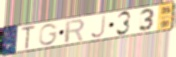3: (114, 10, 136, 36), (138, 7, 156, 32)
G: (39, 23, 60, 47)
J: (89, 14, 107, 39)
R: (64, 19, 86, 45)
T: (20, 25, 38, 51)
